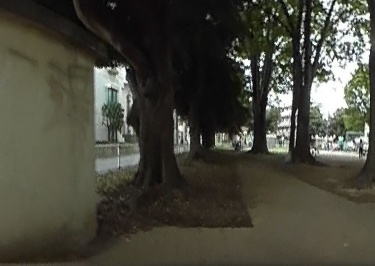person: (357, 138, 365, 159)
